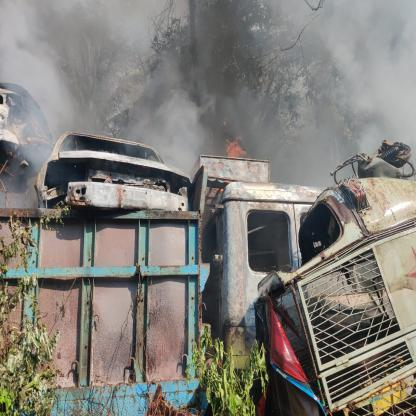Smoke: (0, 0, 416, 206)
